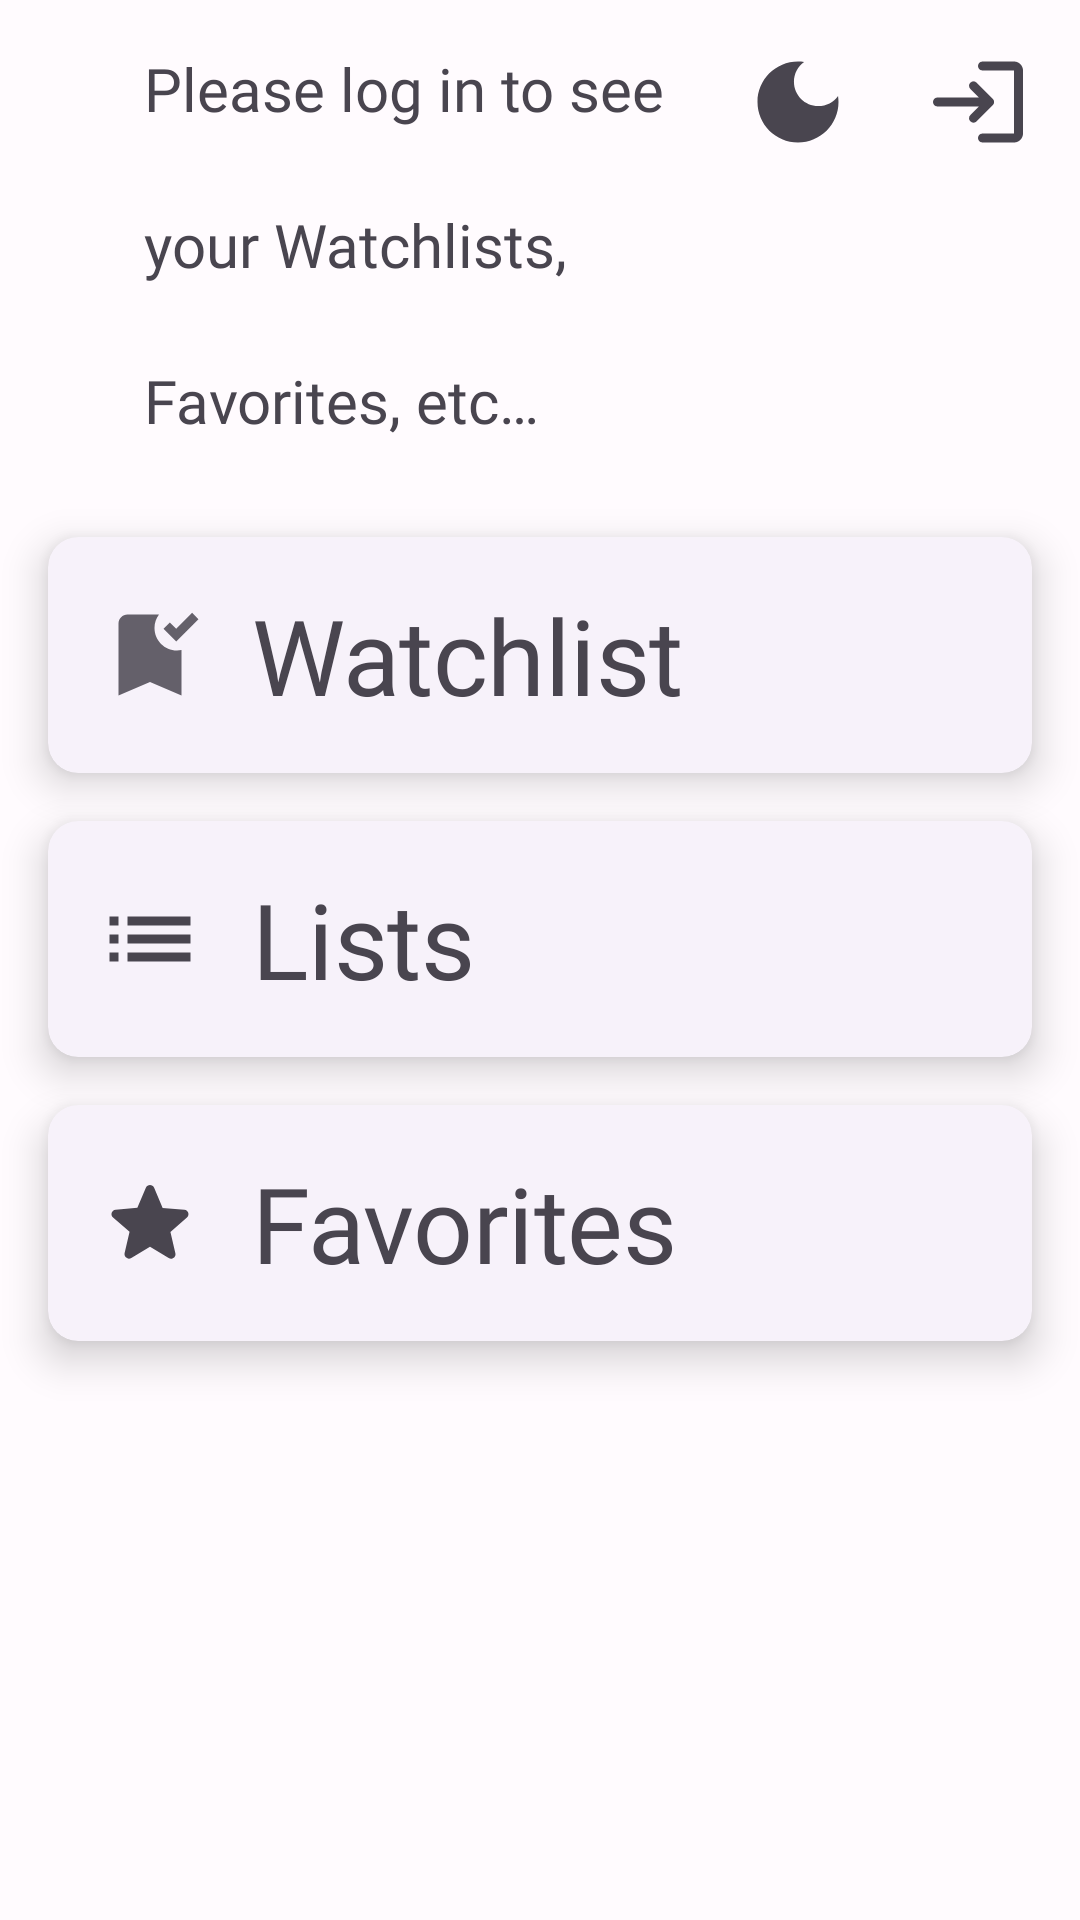

Where to tap for icons on this 1080w x 1920h app screen, as point (x, y):
login: point (978, 102)
mode: point (798, 102)
star: point (150, 1222)
